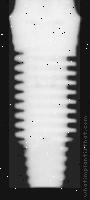BioHorizons: (9, 0, 80, 188)
